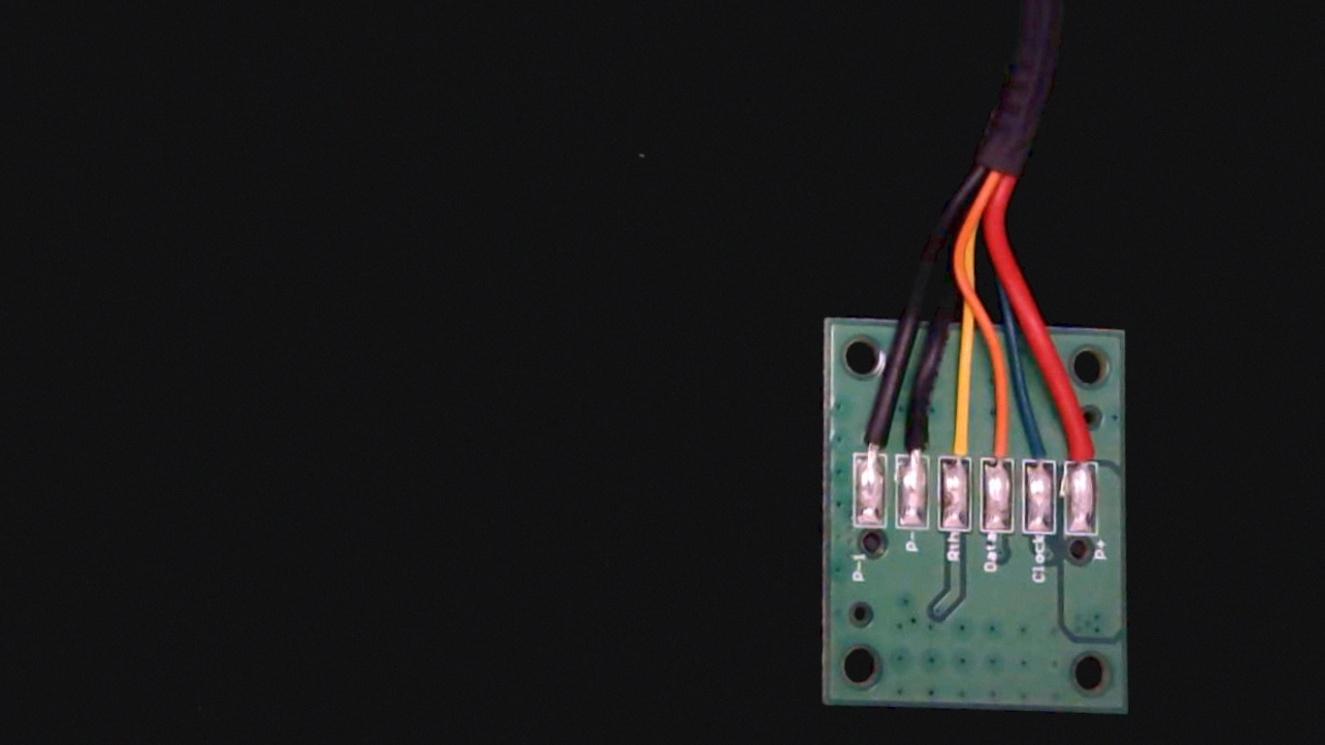Black: (892, 399, 936, 485)
Black1: (851, 401, 893, 481)
Green: (1020, 404, 1063, 487)
Orange: (978, 403, 1020, 488)
Red: (1062, 405, 1105, 488)
Yellow: (939, 398, 982, 485)
